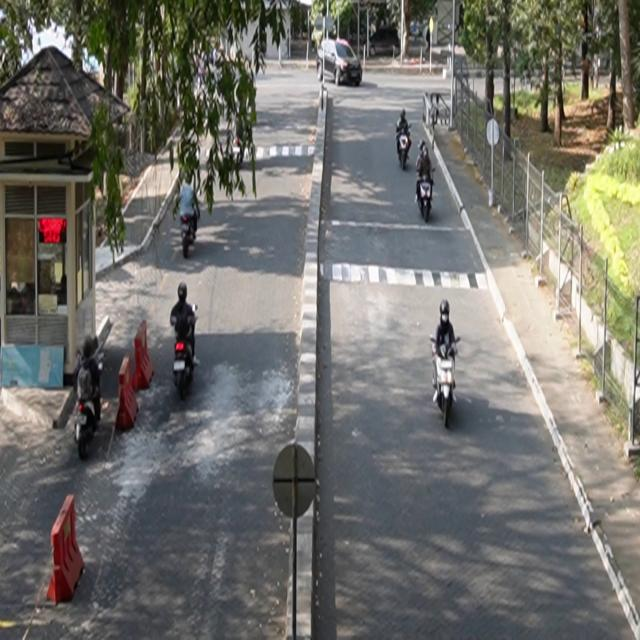car: (318, 39, 364, 87)
